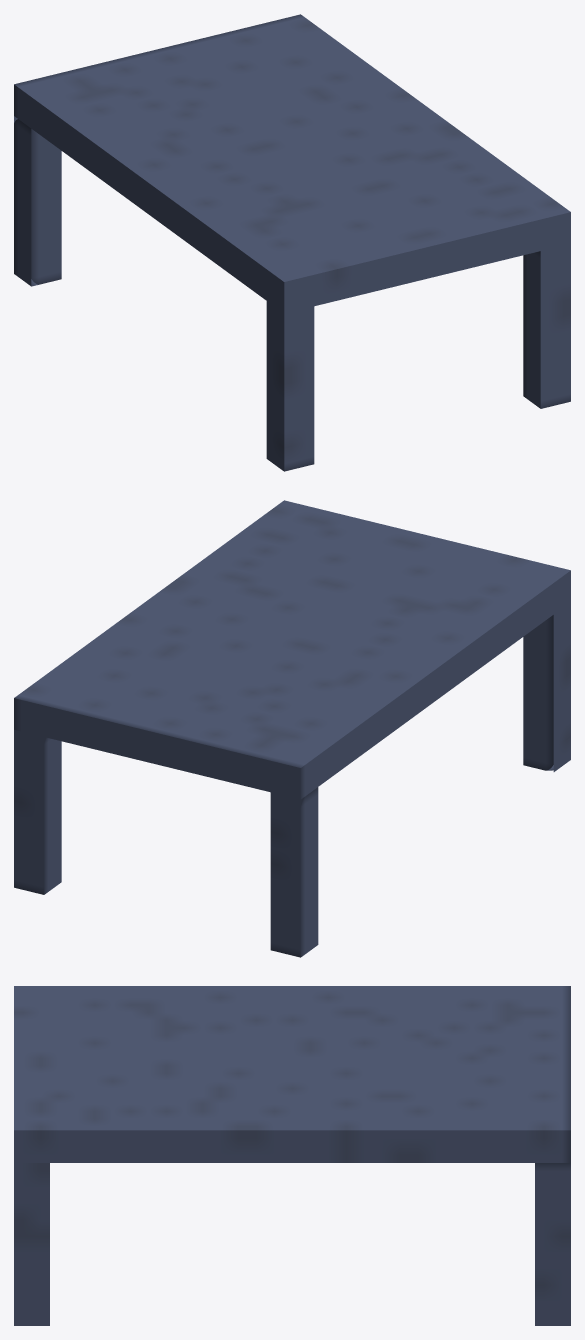
The model's file is stolik_sier.dae.
The picture shows the model from 3 angles, top to bottom: view 1: azimuth 30°, elevation 25°; view 2: azimuth 150°, elevation 25°; view 3: azimuth 270°, elevation 25°; orthographic projection. The views are drawn at different scales.
Visible parts, largest first — view 1: Content; view 2: Content; view 3: Content.
Part boxes in pixels (x1,y1,x2,y2): Content: [14, 14, 570, 471]; Content: [14, 500, 570, 957]; Content: [14, 986, 570, 1325].
Bounding box in the file's own units: 19 × 12 × 31.
1 material, 1 textured.
